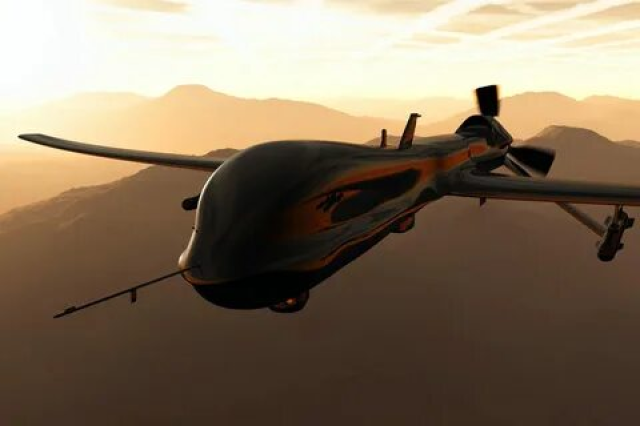military drone: (18, 84, 640, 320)
